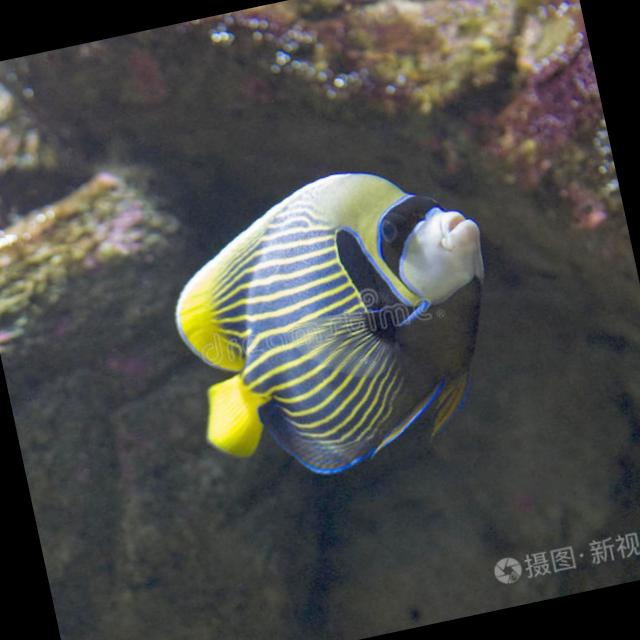AngelFish: (150, 145, 527, 521)
